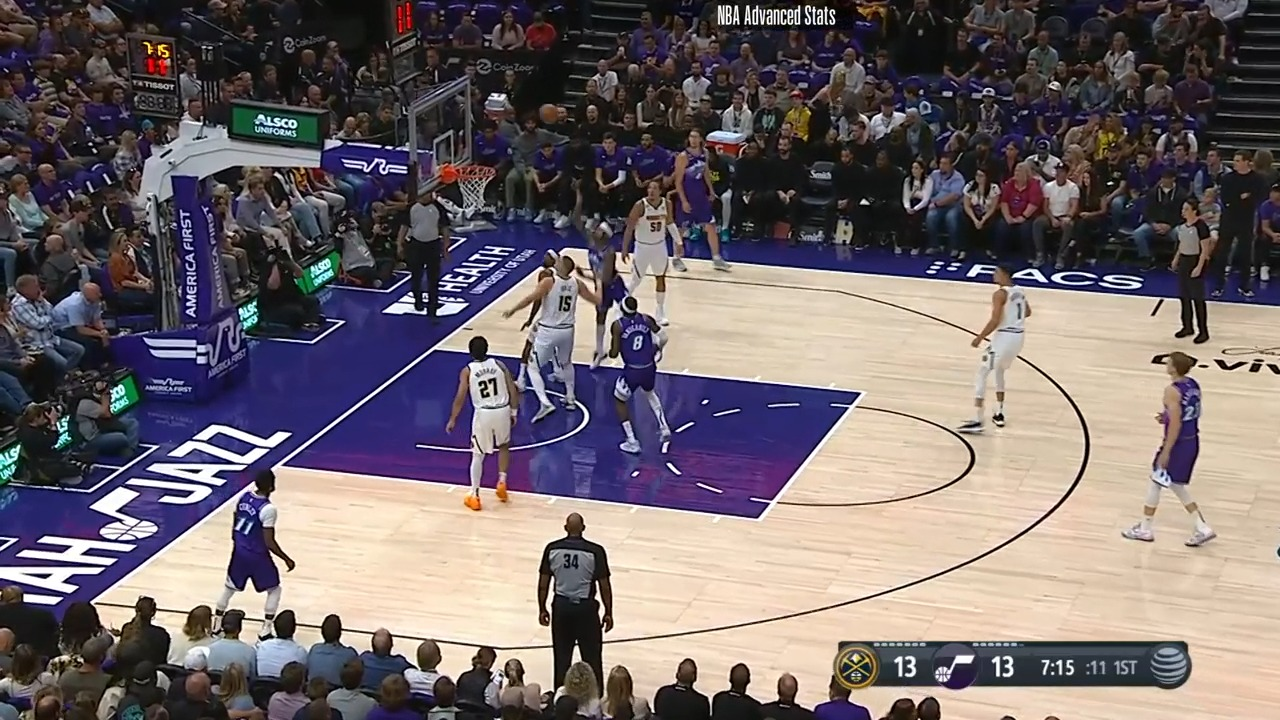net: (438, 159, 499, 212)
player: (1123, 352, 1214, 552), (502, 250, 605, 419), (213, 467, 298, 629), (444, 334, 517, 512), (594, 293, 668, 459), (967, 260, 1035, 435), (573, 185, 634, 362), (666, 130, 729, 278), (624, 178, 684, 325), (512, 246, 563, 392)
referee: (534, 511, 617, 698), (1161, 196, 1212, 344), (399, 186, 452, 319)
